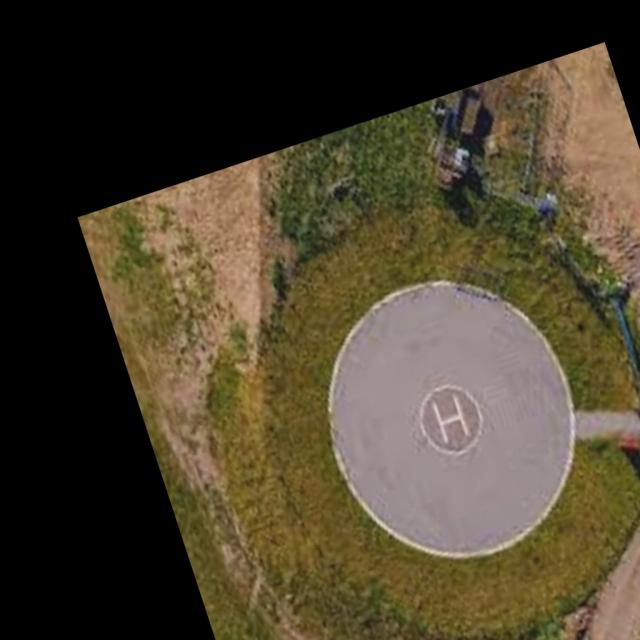helipad: (414, 378, 486, 458)
